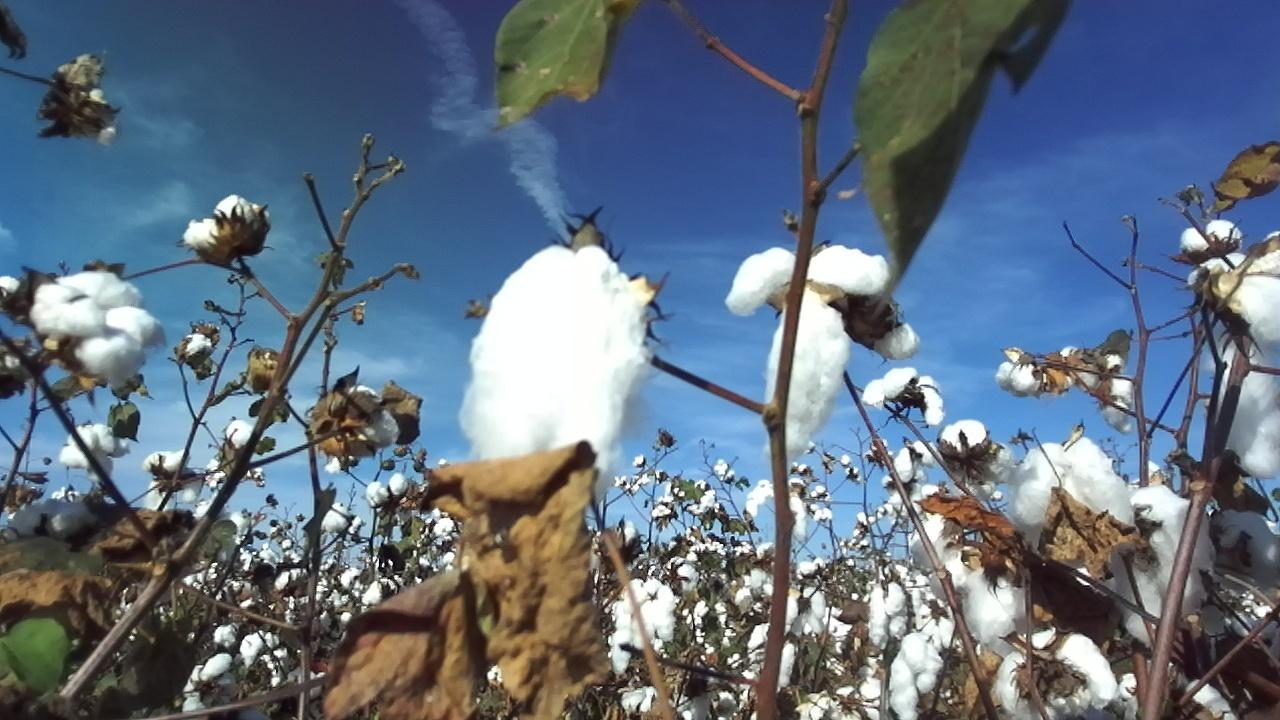cotton_ready: (460, 245, 650, 498), (724, 247, 917, 465), (1117, 484, 1212, 643), (35, 273, 167, 384), (1008, 440, 1139, 535), (994, 629, 1119, 720), (1206, 346, 1280, 479), (1205, 232, 1280, 345), (609, 577, 675, 674), (937, 420, 1016, 499), (915, 510, 977, 601), (1205, 510, 1280, 585), (1120, 674, 1234, 720), (179, 194, 272, 250), (960, 565, 1025, 643), (860, 370, 945, 427), (890, 630, 942, 720), (337, 387, 400, 449), (7, 494, 102, 534), (59, 426, 129, 477), (144, 450, 202, 509), (1100, 355, 1133, 435), (1180, 220, 1243, 261), (996, 362, 1050, 399), (837, 684, 882, 720)
